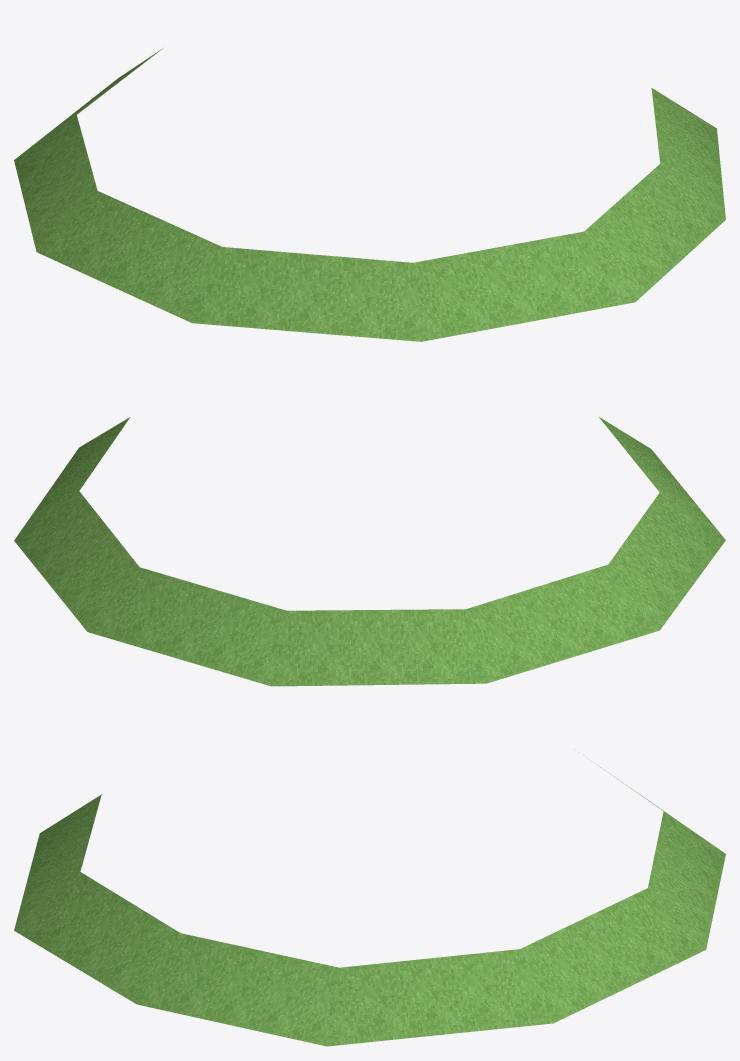
The model's file is kd_stage_1366d7_16_3_bounded.glb.
3 views of the same model, one above another, from view 1: azimuth 30°, elevation 25°; view 2: azimuth 150°, elevation 25°; view 3: azimuth 270°, elevation 25° (orthographic). The views are drawn at different scales.
Parts seen in each view (by area): view 1: kd_stage_1366d7_16_3_bounded; view 2: kd_stage_1366d7_16_3_bounded; view 3: kd_stage_1366d7_16_3_bounded.
Boxes of the visible parts, x1=… form: kd_stage_1366d7_16_3_bounded: x1=14, y1=48, x2=725, y2=341; kd_stage_1366d7_16_3_bounded: x1=14, y1=417, x2=725, y2=686; kd_stage_1366d7_16_3_bounded: x1=14, y1=764, x2=725, y2=1046.
Bounding box in the file's own units: 195 × 14.78 × 190.
Materials: 1 (1 with a texture image).
